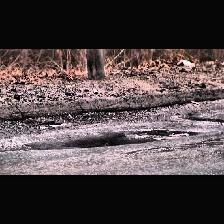pothole: (65, 128, 195, 150)
